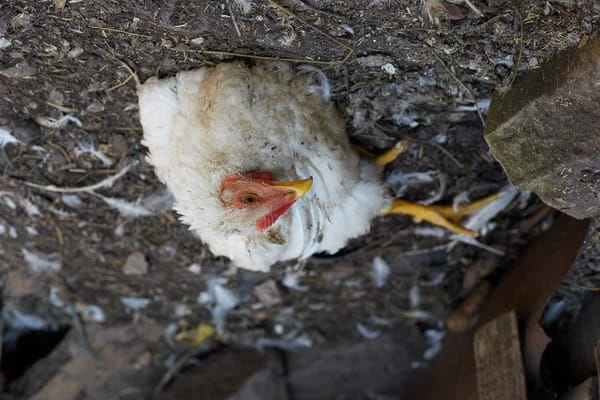Unhealthy: (127, 66, 519, 290)
